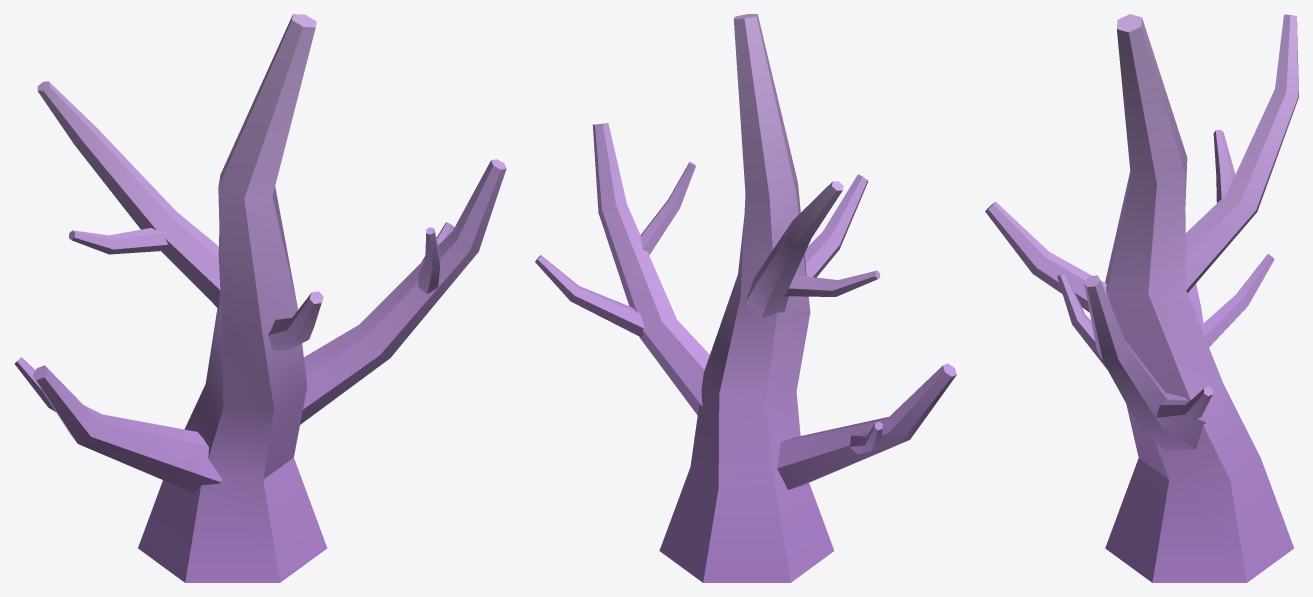
Rendered from CoralReef_09.fbx.
3 renders of one model, left to right at view 1: azimuth 30°, elevation 25°; view 2: azimuth 150°, elevation 25°; view 3: azimuth 270°, elevation 25°, orthographic. The views are drawn at different scales.
Visible parts, largest first — view 1: tree_02; view 2: tree_02; view 3: tree_02.
Boxes of the visible parts, x1,y1,x2,y2 form: tree_02: [14, 14, 506, 582]; tree_02: [535, 14, 956, 582]; tree_02: [985, 14, 1298, 582].
Size of the model in its own units: 211 by 253 by 132.
Materials: 1 (1 with a texture image).
